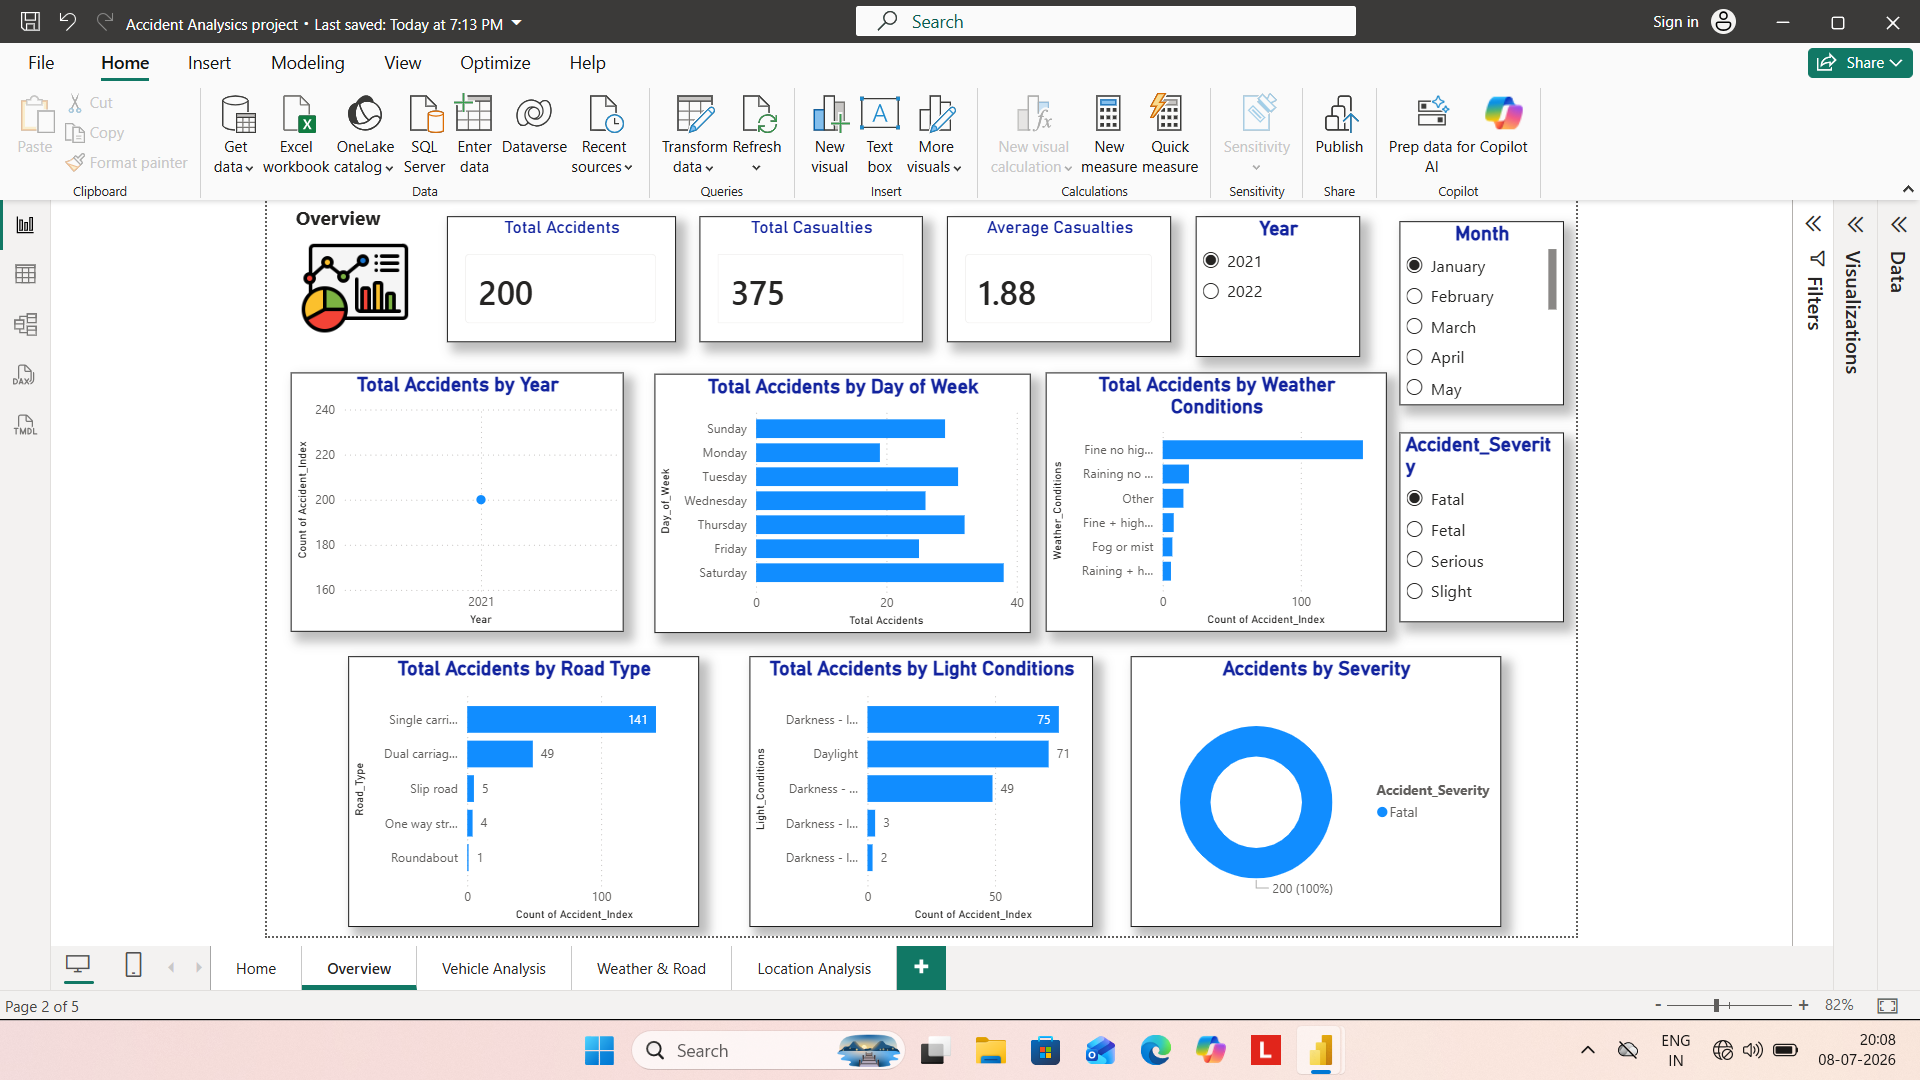

This screenshot's page, from the dashboard's own definition file:
{"tool":"powerbi","page":{"name":"Overview","canvas":[1280,720],"ordinal":1},"visuals":[{"type":"cardVisual","title":"Total Accidents","fields":{"Data":["CountNonNull(Road Accident Data.Accident_Index)"]},"box":[175.6,16.5,223.7,123.5],"z":0},{"type":"cardVisual","title":"Total Casualties","fields":{"Data":["Sum(Road Accident Data.Number_of_Casualties)"]},"box":[422.6,16.5,218.2,123.5],"z":1000},{"type":"cardVisual","title":"Average Casualties","fields":{"Data":["Avg(Road Accident Data.Number_of_Casualties)"]},"box":[665.5,16.5,219.6,123.5],"z":2000},{"type":"lineChart","title":"Total Accidents by Year","fields":{"Category":["Road Accident Data.Accident Date.Variation.Date Hierarchy.Year"],"Y":["CountNonNull(Road Accident Data.Accident_Index)"]},"box":[23.3,168.8,325.2,253.9],"z":3000},{"type":"clusteredBarChart","title":"Total Accidents by Day of Week","fields":{"Category":["Road Accident Data.Day_of_Week"],"Y":["Road Accident Data.Total Accidents"]},"box":[378.7,170.2,367.8,253.9],"z":4000},{"type":"clusteredBarChart","title":"Total Accidents by Weather Conditions","fields":{"Category":["Road Accident Data.Weather_Conditions"],"Y":["CountNonNull(Road Accident Data.Accident_Index)"]},"box":[761.6,168.8,333.4,253.9],"z":5000},{"type":"clusteredBarChart","title":"Total Accidents by Road Type","fields":{"Category":["Road Accident Data.Road_Type"],"Y":["CountNonNull(Road Accident Data.Accident_Index)"]},"box":[79.6,446,343.1,264.8],"z":6000},{"type":"clusteredBarChart","title":"Total Accidents  by Light Conditions","fields":{"Category":["Road Accident Data.Light_Conditions"],"Y":["CountNonNull(Road Accident Data.Accident_Index)"]},"box":[472,446,336.2,264.8],"z":7000},{"type":"donutChart","title":"Accidents by Severity","fields":{"Category":["Road Accident Data.Accident_Severity"],"Y":["CountNonNull(Road Accident Data.Accident_Index)"]},"box":[845.3,446,362.3,264.8],"z":8000},{"type":"listSlicer","title":"Year","fields":{"Values":["Road Accident Data.Accident Date.Variation.Date Hierarchy.Year"]},"box":[908.4,16.5,160.5,137.2],"z":9000},{"type":"listSlicer","fields":{"Values":["Road Accident Data.Accident Date.Variation.Date Hierarchy.Month"]},"box":[1107.4,20.6,160.5,179.8],"z":10000},{"type":"listSlicer","fields":{"Values":["Road Accident Data.Accident_Severity"]},"box":[1107.4,227.8,160.5,185.2],"z":11000},{"type":"image","box":[23.3,30.2,124.9,111.1],"z":12000},{"type":"textbox","box":[23.3,0,108.4,42.5],"z":13000}]}

Visuals, with their boxes on the page's 1280x720 design canvas (x1, y1, x2, y2). These are canvas units, not pixel positions in the 1920x1080 screenshot, which may show the page scaled, cropped or inside an application window:
"Total Accidents" cardVisual: box(176, 16, 399, 140)
"Total Casualties" cardVisual: box(423, 16, 641, 140)
"Average Casualties" cardVisual: box(666, 16, 885, 140)
"Total Accidents by Year" lineChart: box(23, 169, 348, 423)
"Total Accidents by Day of Week" clusteredBarChart: box(379, 170, 746, 424)
"Total Accidents by Weather Conditions" clusteredBarChart: box(762, 169, 1095, 423)
"Total Accidents by Road Type" clusteredBarChart: box(80, 446, 423, 711)
"Total Accidents  by Light Conditions" clusteredBarChart: box(472, 446, 808, 711)
"Accidents by Severity" donutChart: box(845, 446, 1208, 711)
"Year" listSlicer: box(908, 16, 1069, 154)
listSlicer - Road Accident Data.Accident Date.Variation.Date Hierarchy.Month: box(1107, 21, 1268, 200)
listSlicer - Road Accident Data.Accident_Severity: box(1107, 228, 1268, 413)
image: box(23, 30, 148, 141)
textbox: box(23, 0, 132, 42)
